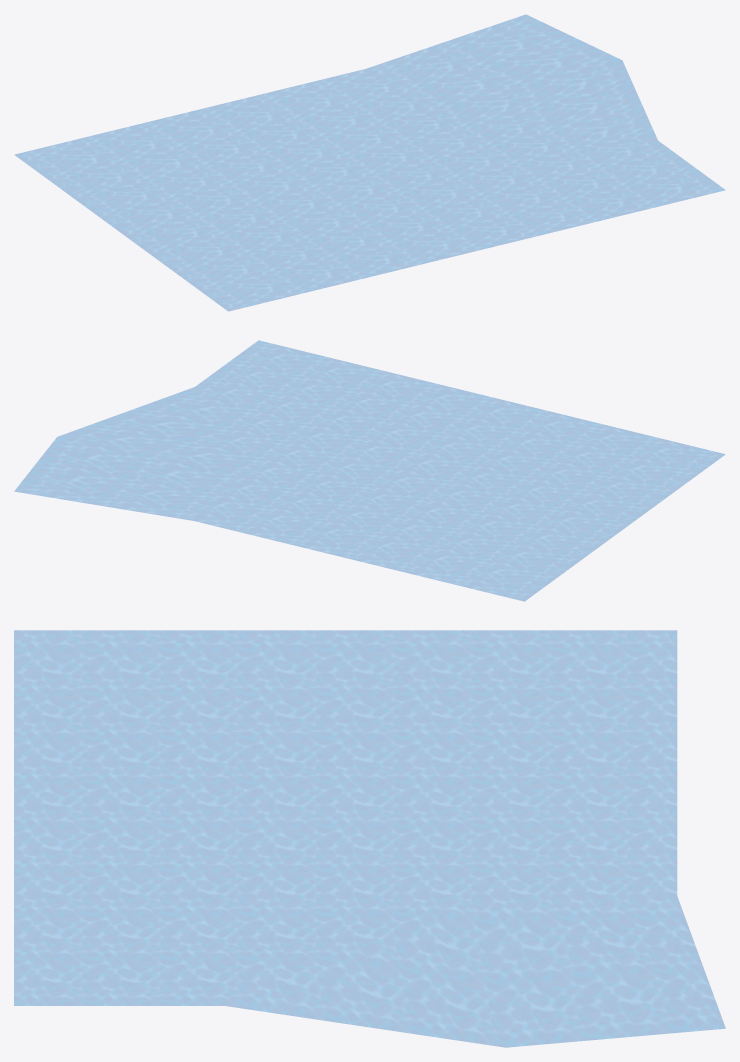
File: object_40_lev2.glb
3 renders of one model, top to bottom at view 1: azimuth 30°, elevation 25°; view 2: azimuth 150°, elevation 25°; view 3: azimuth 270°, elevation 25°, orthographic. The views are drawn at different scales.
Visible parts, largest first — view 1: object_40_lev2; view 2: object_40_lev2; view 3: object_40_lev2.
Boxes of the visible parts, left/top/right/bottom form: object_40_lev2: left=15, top=14, right=724, bottom=311; object_40_lev2: left=14, top=340, right=725, bottom=601; object_40_lev2: left=14, top=630, right=725, bottom=1047.
Size of the model in its own units: 140 by 0 by 101.
Materials: 1 (1 with a texture image).
